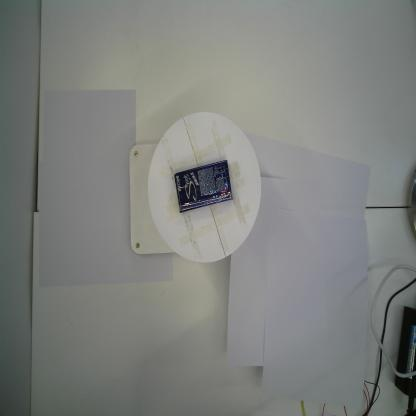Gum: (174, 159, 233, 213)
